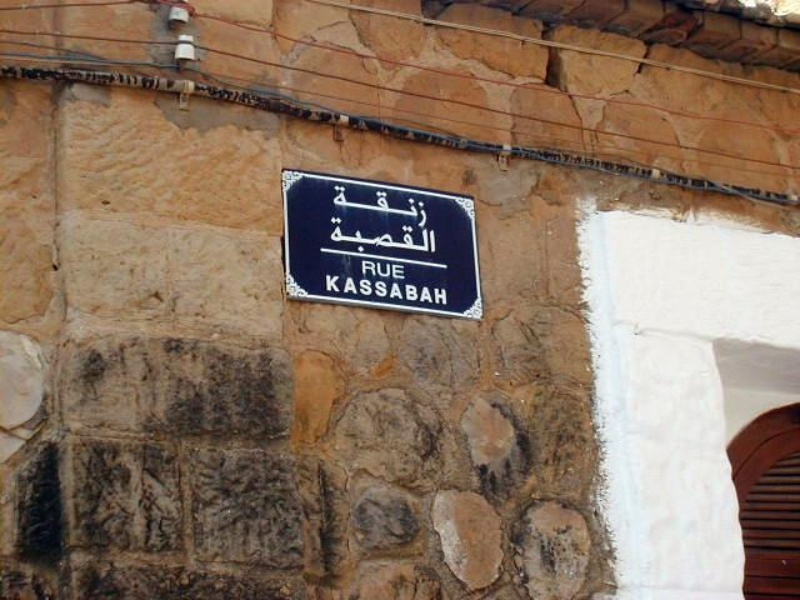text: (337, 181, 352, 232), (353, 181, 368, 232), (369, 181, 384, 232), (385, 181, 400, 232), (401, 181, 416, 232), (337, 214, 352, 262), (353, 214, 368, 262), (369, 214, 384, 262), (385, 214, 400, 262), (401, 214, 416, 262), (417, 214, 432, 262), (417, 181, 431, 232), (433, 273, 449, 306), (337, 273, 352, 306), (353, 273, 368, 306), (369, 273, 384, 306), (385, 273, 400, 306), (401, 273, 416, 306), (417, 273, 432, 306), (328, 214, 336, 262), (369, 257, 384, 281), (385, 257, 400, 281), (326, 273, 336, 306), (331, 181, 336, 232), (433, 214, 438, 262), (358, 257, 368, 281), (401, 257, 408, 281)
